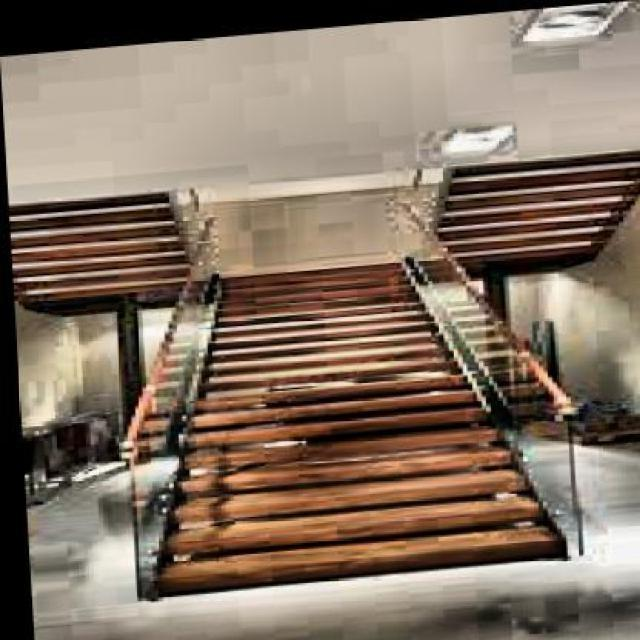stair: (144, 244, 526, 598)
